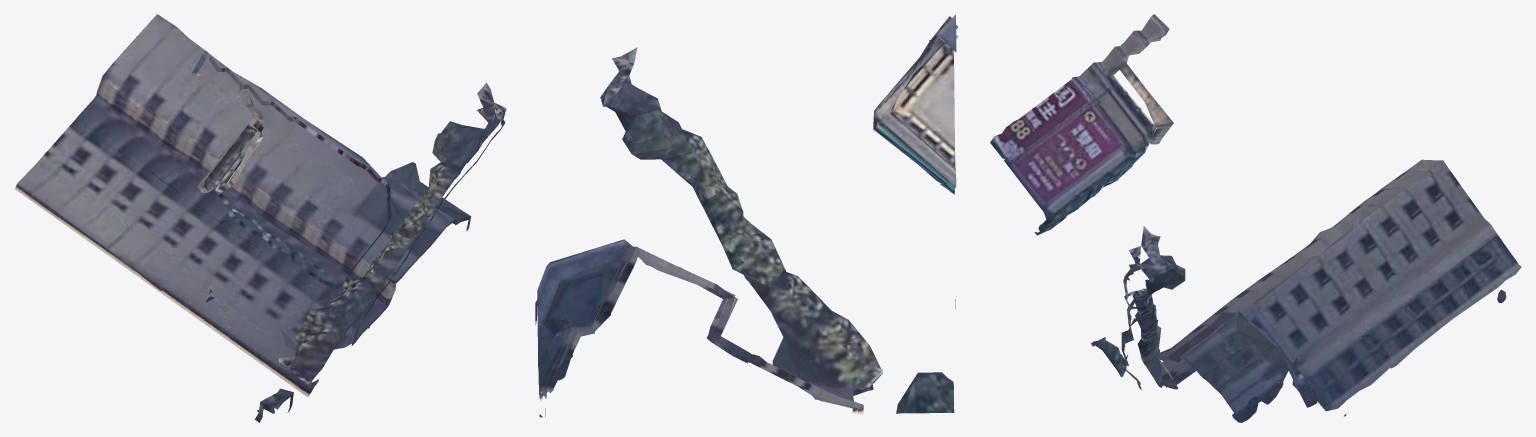
3 renders of one model, left to right at view 1: azimuth 30°, elevation 25°; view 2: azimuth 150°, elevation 25°; view 3: azimuth 270°, elevation 25°, orthographic. The views are drawn at different scales.
Bounding box in the file's own units: 42.01 × 39.96 × 57.62.
Materials: 2 (2 with a texture image).
